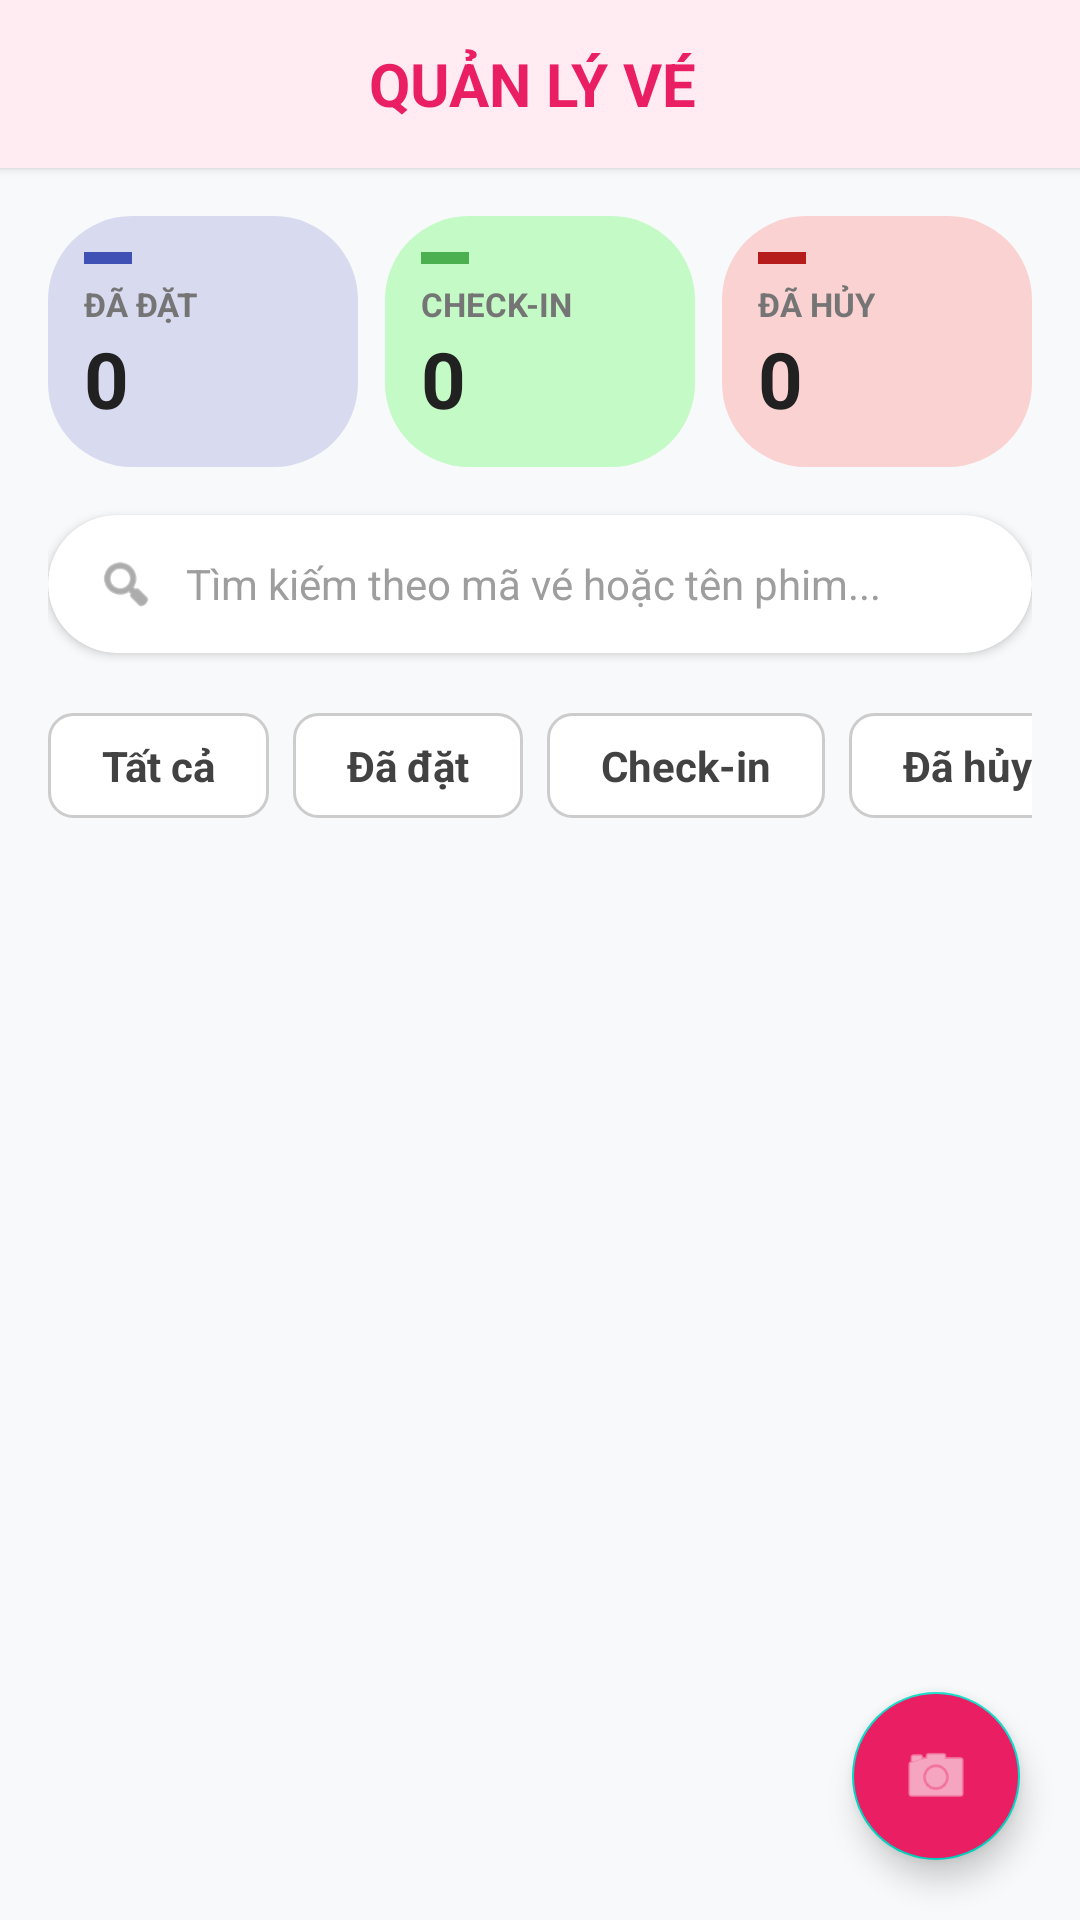

Point at icon controls on the screen. Image size 1080×1920, points as [x,y].
Scan QR Button: [936,1776]
search: [126,584]
